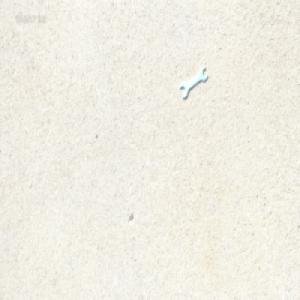Wrench: (180, 65, 207, 97)
